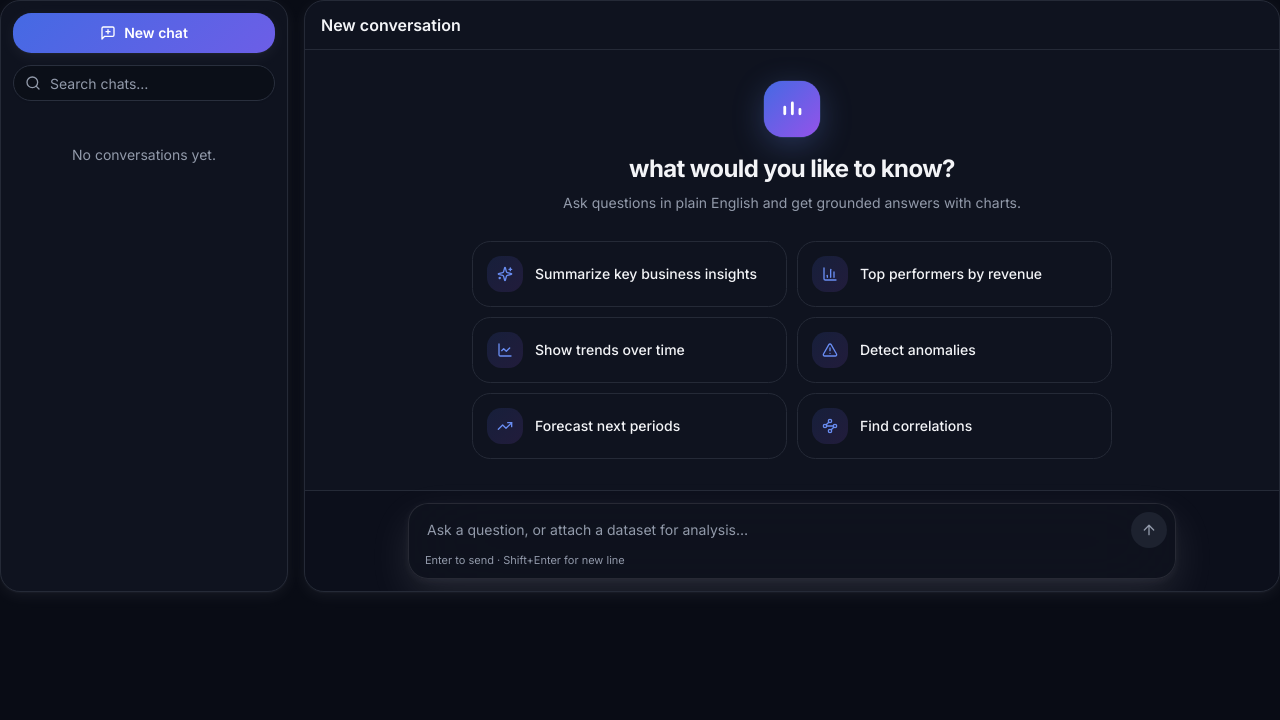
ChatPage workflow › creates a chat and streams a grounded reply when a prompt is clicked
Check: the heading "what would you like to know?" is shown, box [629,153,955,185]
Click the button "Summarize key business insights": (630, 274) [472,241,787,307]
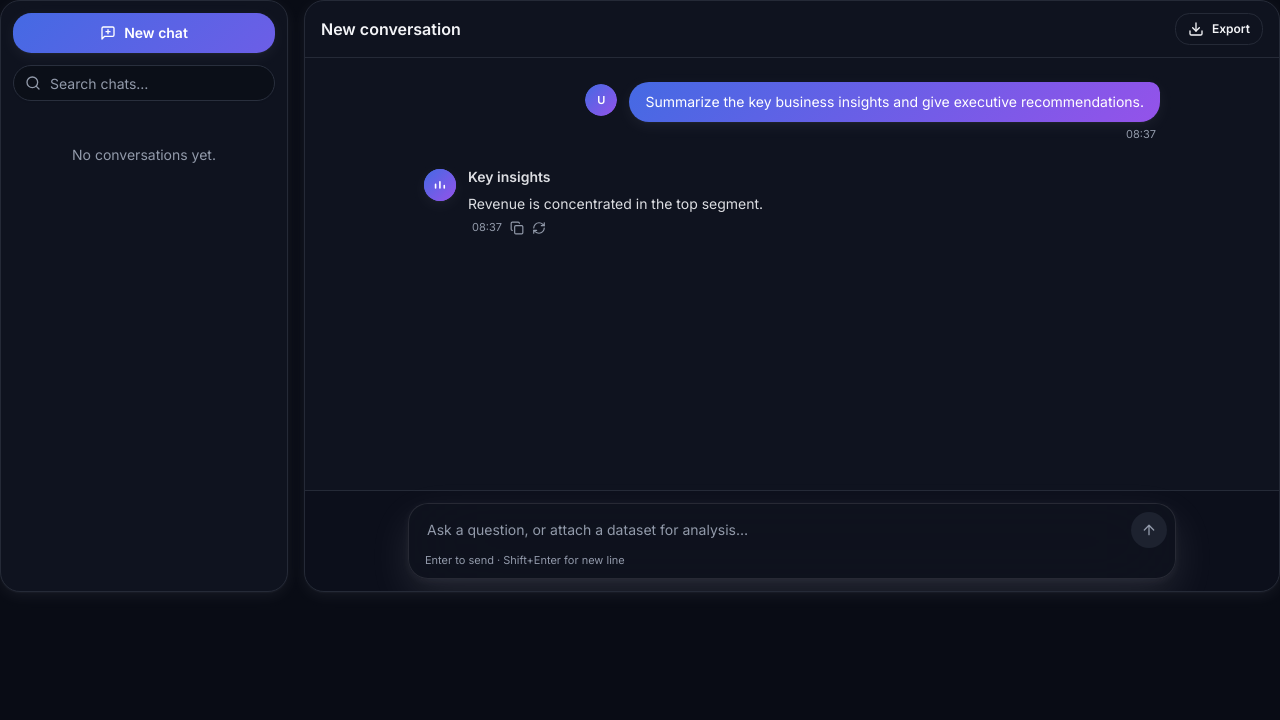
Check: the heading "Key insights" is shown, box [468,168,550,184]
Check: the text "Revenue is concentrated in the top segment." is shown, box [468,194,763,212]
